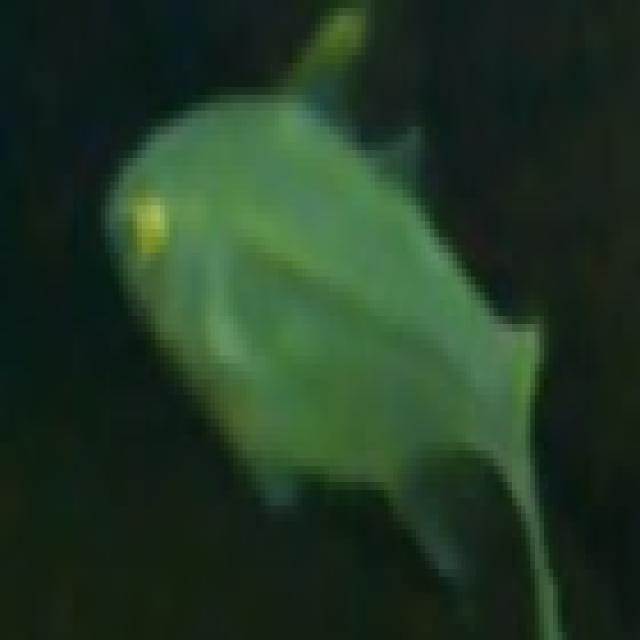Glass-Perchlet: (84, 0, 595, 624)
